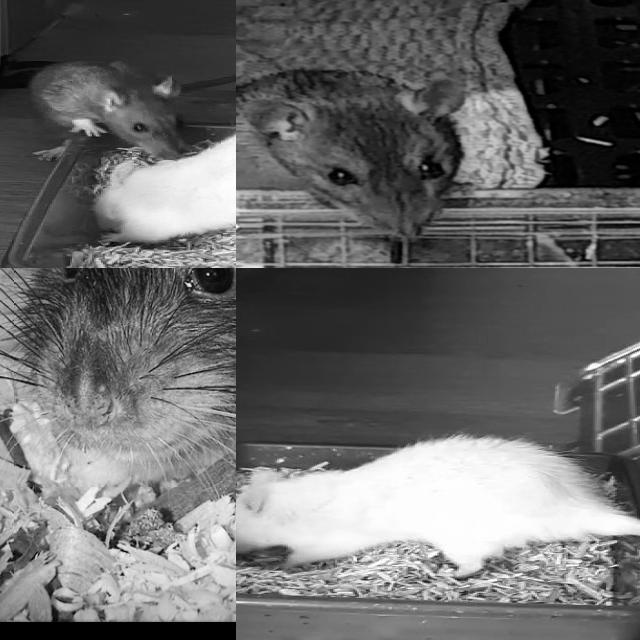rat: (236, 437, 609, 574), (236, 69, 467, 242), (42, 268, 236, 464), (90, 118, 236, 246), (31, 62, 198, 166)
